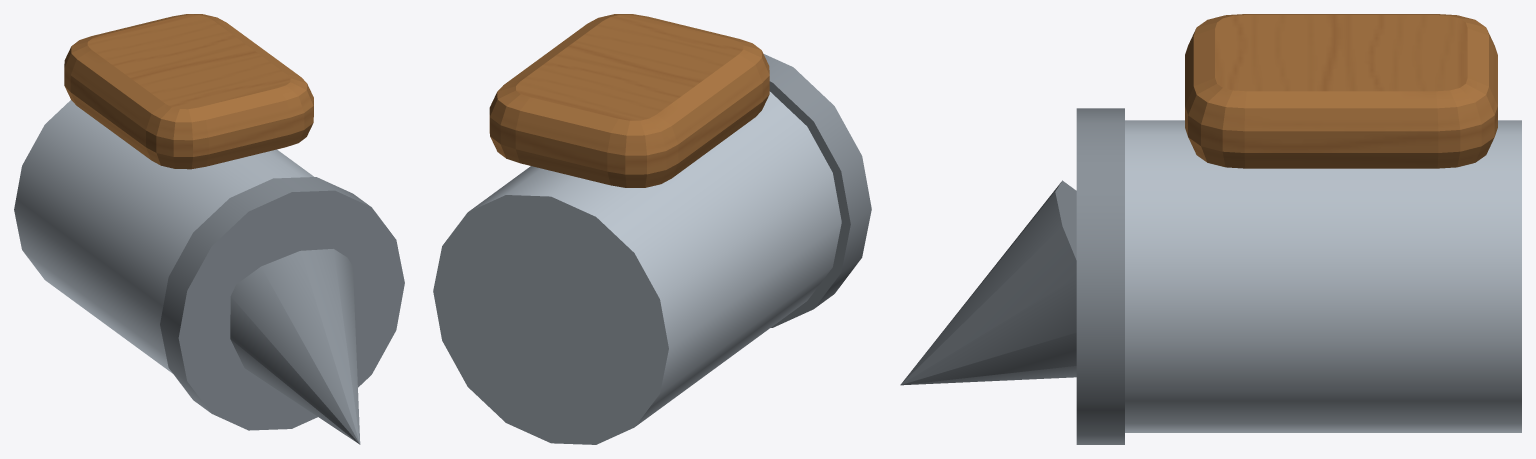
File: smoker.glb
The picture shows the model from 3 angles, left to right: view 1: azimuth 30°, elevation 25°; view 2: azimuth 150°, elevation 25°; view 3: azimuth 270°, elevation 25°; orthographic projection. The views are drawn at different scales.
Bounding box in the file's own units: 0.28 × 0.345 × 0.5168.
3 materials, 1 textured.
